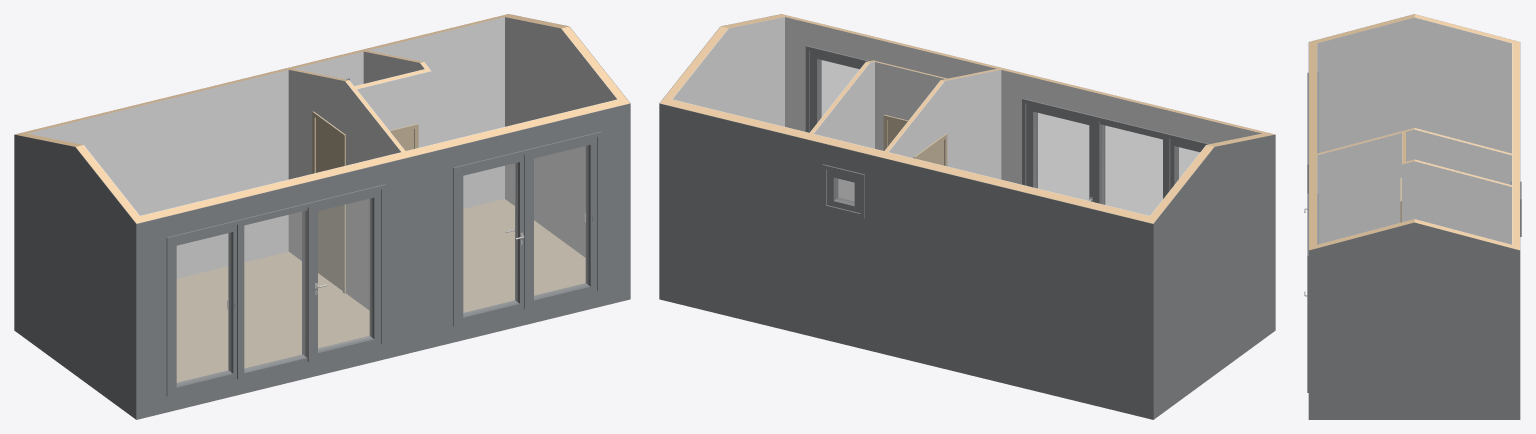
Rendered from gintautas.kuchanauskas@gmail_1var.fbx.
3 renders of one model, left to right at view 1: azimuth 30°, elevation 25°; view 2: azimuth 150°, elevation 25°; view 3: azimuth 270°, elevation 25°, orthographic. The views are drawn at different scales.
Visible parts, largest first — view 1: IfcWall/Part:2319977, IfcWall/Part:2319982, IfcWall/Part:2347281, IfcSlab/Part:2319985, IfcWall/Part:2460764, IfcDoor/Durys išorinės:1000x2100x120 (dešininės):2431213, IfcWindow/Langai (Akrusta):1000x2100x120 (dešininis):2472695, IfcWindow/Langai (Akrusta):1000x2100x120 (dešininis):2476892, IfcDoor/Durys išorinės:1000x2100x120 (kairinės):2477012, IfcWindow/Langai (Akrusta):1000x2100x120:2476891, IfcWall/Part:2321694, IfcDoor/Durys vidinės:700x2100 x 120 (dešininės):2475766 (+6 smaller); view 2: IfcWall/Part:2319983, IfcWall/Part:2347281, IfcWall/Part:2319976, IfcWall/Part:2460764, IfcWall/Part:2321694, IfcDoor/Durys išorinės:1000x2100x120 (dešininės):2431213, IfcWindow/Langai (Akrusta):1000x2100x120:2476891, IfcWall/Part:2319984, IfcWall/Part:2475137, IfcWall/Part:2474831, IfcWindow/Langai (Akrusta):1000x2100x120 (dešininis):2472695, IfcWindow/Langai (Akrusta):500x500x120:2476505 (+5 smaller); view 3: IfcWall/Part:2460765, IfcWall/Part:2347280, IfcWall/Part:2321693, IfcWall/Part:2475138, IfcWall/Part:2475579, IfcWall/Part:2319978, IfcWall/Part:2319984, IfcWall/Part:2347282, IfcWall/Part:2460766, IfcWall/Part:2321695, IfcWindow/Langai (Akrusta):1000x2100x120 (dešininis):2472695, IfcWall/Part:2319983 (+2 smaller).
Boxes of the visible parts, box(x1,y1,x2,y2) form: IfcWall/Part:2319977: box(136, 103, 630, 419); IfcWall/Part:2319982: box(27, 17, 504, 278); IfcWall/Part:2347281: box(14, 134, 136, 419); IfcSlab/Part:2319985: box(176, 199, 585, 382); IfcWall/Part:2460764: box(505, 17, 617, 257); IfcDoor/Durys išorinės:1000x2100x120 (dešininės):2431213: box(302, 184, 385, 361); IfcWindow/Langai (Akrusta):1000x2100x120 (dešininis):2472695: box(524, 131, 601, 309); IfcWindow/Langai (Akrusta):1000x2100x120 (dešininis):2476892: box(166, 219, 244, 396); IfcDoor/Durys išorinės:1000x2100x120 (kairinės):2477012: box(453, 149, 530, 326); IfcWindow/Langai (Akrusta):1000x2100x120:2476891: box(237, 201, 314, 379); IfcWall/Part:2321694: box(288, 69, 401, 310); IfcDoor/Durys vidinės:700x2100 x 120 (dešininės):2475766: box(312, 111, 345, 293); IfcWall/Part:2319983: box(659, 103, 1153, 419); IfcWall/Part:2347281: box(1153, 134, 1275, 419); IfcWall/Part:2319976: box(785, 17, 1262, 184); IfcWall/Part:2460764: box(672, 17, 784, 126); IfcWall/Part:2321694: box(888, 69, 1001, 179); IfcDoor/Durys išorinės:1000x2100x120 (dešininės):2431213: box(1022, 98, 1105, 204); IfcWindow/Langai (Akrusta):1000x2100x120:2476891: box(1092, 116, 1170, 215); IfcWall/Part:2319984: box(660, 97, 1157, 223); IfcWall/Part:2475137: box(813, 62, 874, 200); IfcWall/Part:2474831: box(875, 62, 945, 150); IfcWindow/Langai (Akrusta):1000x2100x120 (dešininis):2472695: box(805, 45, 868, 132); IfcWindow/Langai (Akrusta):500x500x120:2476505: box(822, 164, 864, 218); IfcWall/Part:2460765: box(1309, 222, 1519, 419); IfcWall/Part:2347280: box(1317, 17, 1511, 153); IfcWall/Part:2321693: box(1317, 133, 1401, 244); IfcWall/Part:2475138: box(1402, 161, 1511, 244); IfcWall/Part:2475579: box(1406, 129, 1511, 184); IfcWall/Part:2319978: box(1309, 40, 1316, 250); IfcWall/Part:2319984: box(1512, 40, 1519, 250); IfcWall/Part:2347282: box(1317, 14, 1512, 42); IfcWall/Part:2460766: box(1317, 219, 1512, 248); IfcWall/Part:2321695: box(1317, 128, 1512, 155); IfcWindow/Langai (Akrusta):1000x2100x120 (dešininis):2472695: box(1307, 223, 1318, 392); IfcWall/Part:2319983: box(1520, 42, 1520, 419).
Bounding box in the file's own units: 700 × 309 × 309.
